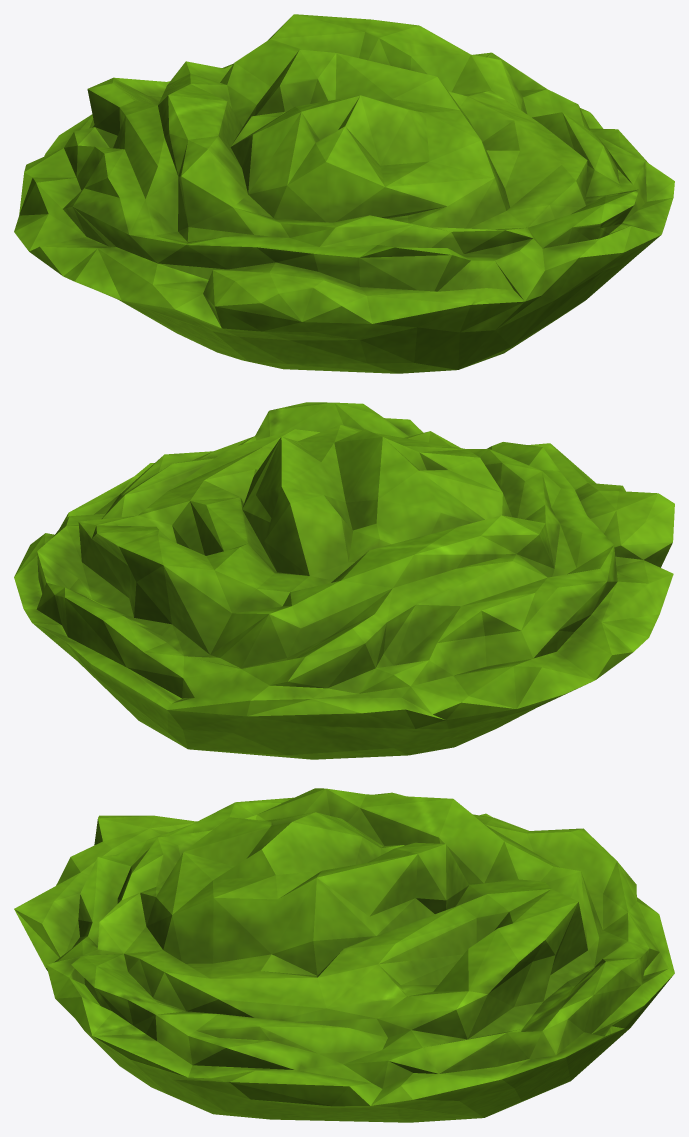
The model's file is WASABİ.fbx.
3 views of the same model, one above another, from view 1: azimuth 30°, elevation 25°; view 2: azimuth 150°, elevation 25°; view 3: azimuth 270°, elevation 25° (orthographic).
Parts seen in each view (by area): view 1: wasabi; view 2: wasabi; view 3: wasabi.
Boxes of the visible parts, x1,y1,x2,y2 form: wasabi: [14, 14, 674, 373]; wasabi: [14, 402, 674, 759]; wasabi: [14, 788, 674, 1122].
Bounding box in the file's own units: 16.68 × 6.94 × 16.77.
